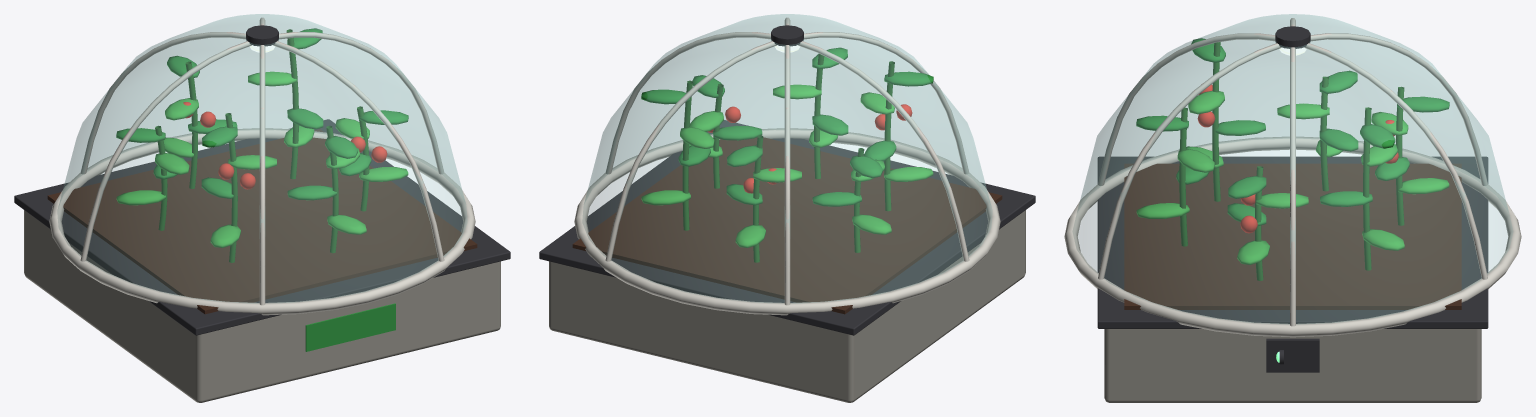
File: station_G.glb
3 renders of one model, left to right at view 1: azimuth 30°, elevation 25°; view 2: azimuth 150°, elevation 25°; view 3: azimuth 270°, elevation 25°, orthographic. The views are drawn at different scales.
Visible parts, largest first — view 1: dome, soil, planter, station_G_white, station_G_graph, label, anim_sway_3_leaf, anim_sway_1_leaf2, anim_sway_2_leaf2, anim_sway_2_leaf, anim_sway_0_leaf, anim_sway_4_leaf (+12 smaller); view 2: dome, soil, planter, station_G_white, station_G_graph, anim_sway_5_leaf, anim_sway_3_leaf2, anim_sway_2_leaf, anim_sway_2_leaf2, anim_sway_4_leaf, anim_sway_4_leaf2, anim_sway_0_leaf2 (+10 smaller); view 3: dome, soil, planter, station_G_white, station_G_graph, anim_sway_5_leaf2, anim_sway_1_leaf, anim_sway_3_leaf2, anim_sway_0_leaf, anim_sway_4_leaf2, anim_sway_4_leaf, anim_sway_5_leaf (+11 smaller).
Boxes of the visible parts, left/top/right/bottom form: dome: left=57, top=14, right=467, bottom=303; soil: left=47, top=129, right=477, bottom=314; planter: left=24, top=210, right=500, bottom=402; station_G_white: left=49, top=17, right=475, bottom=315; station_G_graph: left=14, top=25, right=510, bottom=335; label: left=305, top=303, right=395, bottom=351; anim_sway_3_leaf: left=116, top=153, right=189, bottom=205; anim_sway_1_leaf2: left=287, top=136, right=357, bottom=200; anim_sway_2_leaf2: left=201, top=126, right=237, bottom=198; anim_sway_2_leaf: left=210, top=155, right=276, bottom=247; anim_sway_0_leaf: left=335, top=118, right=408, bottom=181; anim_sway_4_leaf: left=163, top=98, right=198, bottom=157; dome: left=582, top=14, right=992, bottom=303; soil: left=572, top=137, right=1002, bottom=314; planter: left=549, top=210, right=1025, bottom=402; station_G_white: left=574, top=17, right=1000, bottom=315; station_G_graph: left=539, top=25, right=1035, bottom=335; anim_sway_5_leaf: left=641, top=127, right=714, bottom=205; anim_sway_3_leaf2: left=812, top=155, right=882, bottom=206; anim_sway_2_leaf: left=860, top=92, right=933, bottom=181; anim_sway_2_leaf2: left=864, top=71, right=933, bottom=161; anim_sway_4_leaf: left=735, top=168, right=801, bottom=247; anim_sway_4_leaf2: left=726, top=145, right=762, bottom=205; anim_sway_0_leaf2: left=692, top=75, right=762, bottom=140; dome: left=1073, top=14, right=1512, bottom=324; soil: left=1124, top=163, right=1461, bottom=309; planter: left=1104, top=329, right=1481, bottom=402; station_G_white: left=1064, top=18, right=1521, bottom=337; station_G_graph: left=1097, top=26, right=1488, bottom=372; anim_sway_5_leaf2: left=1320, top=124, right=1395, bottom=206; anim_sway_1_leaf: left=1136, top=148, right=1214, bottom=218; anim_sway_3_leaf2: left=1319, top=70, right=1358, bottom=151; anim_sway_0_leaf: left=1237, top=193, right=1308, bottom=264; anim_sway_4_leaf2: left=1375, top=96, right=1449, bottom=180; anim_sway_4_leaf: left=1371, top=112, right=1449, bottom=194; anim_sway_5_leaf: left=1361, top=144, right=1404, bottom=250.
Bounding box in the file's own units: 2.06 × 1.45 × 2.06.
